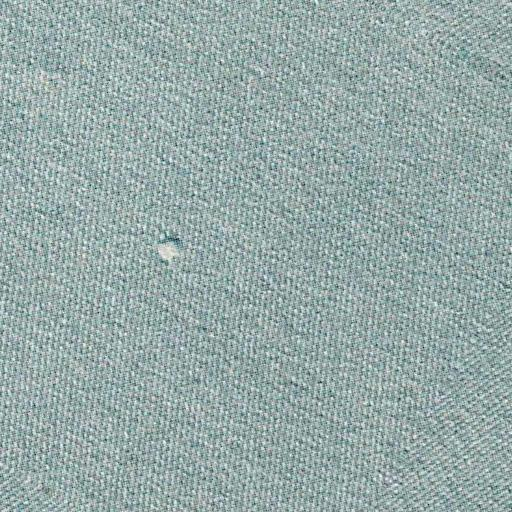knot: (148, 229, 195, 271)
